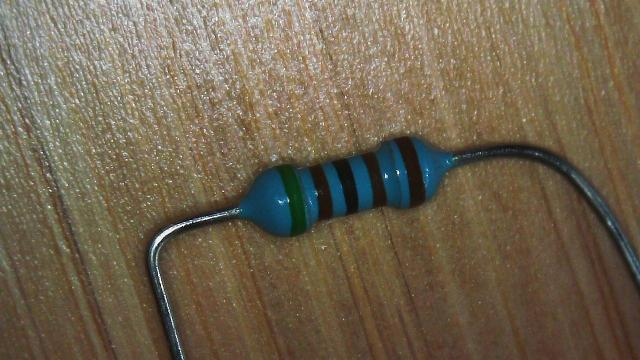black: (332, 159, 358, 214)
brown: (393, 137, 424, 207), (361, 152, 386, 208), (308, 164, 332, 220)
green: (278, 165, 306, 235)
resistor: (233, 130, 458, 242)
